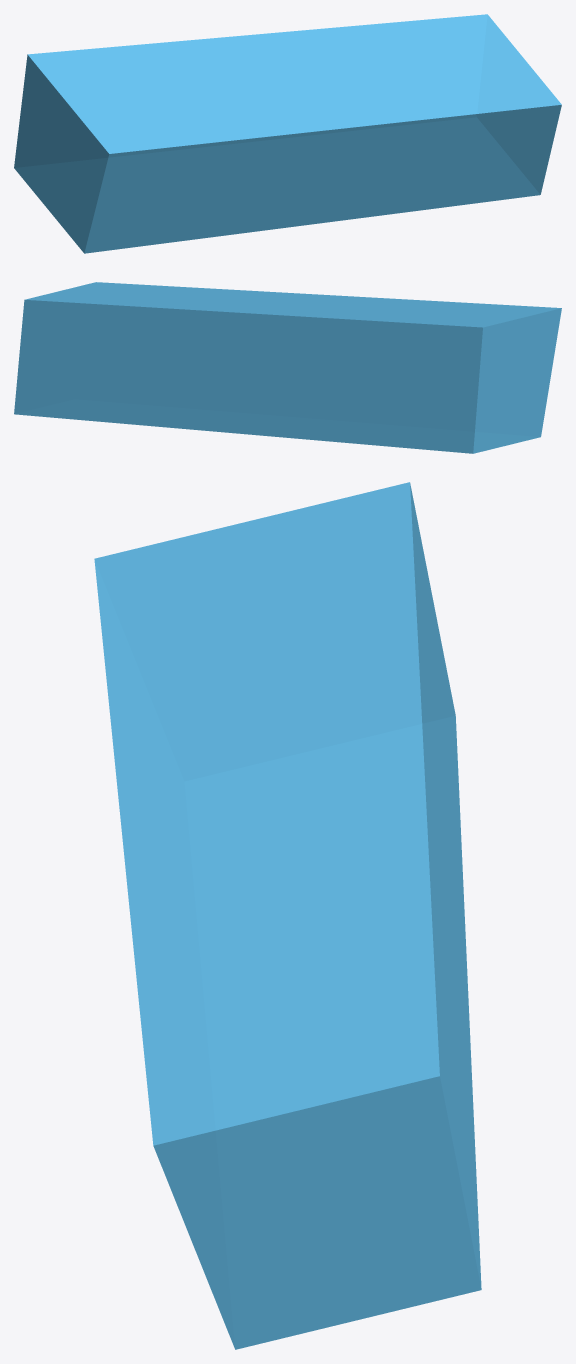
File: Event_420604493_HErechit_30.fbx
3 renders of one model, top to bottom at view 1: azimuth 30°, elevation 25°; view 2: azimuth 150°, elevation 25°; view 3: azimuth 270°, elevation 25°, orthographic. The views are drawn at different scales.
Visible parts, largest first — view 1: Model; view 2: Model; view 3: Model.
Boxes of the visible parts, x1,y1,x2,y2 form: Model: (14, 14, 561, 253); Model: (14, 282, 561, 453); Model: (94, 482, 481, 1349).
Bounding box in the file's own units: 1.08 × 0.4871 × 0.3998.
